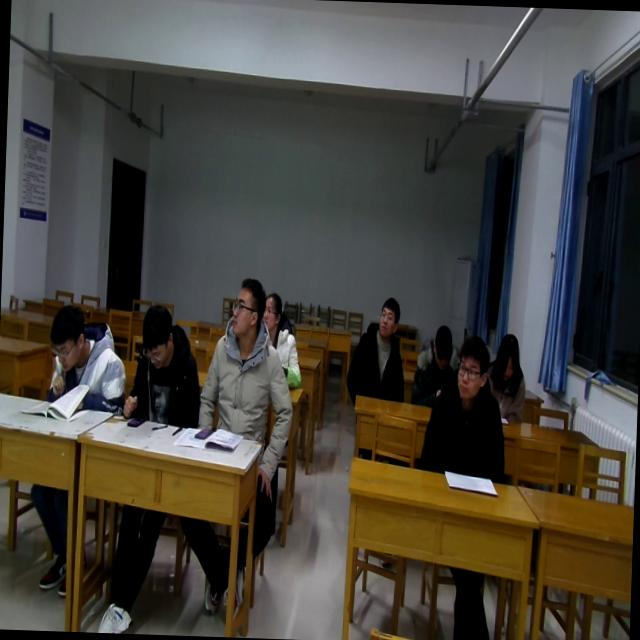bow: (42, 300, 128, 414)
down: (45, 300, 90, 374), (136, 302, 176, 373), (492, 324, 524, 384), (426, 322, 456, 374)
lookup: (452, 330, 488, 404)
sit: (194, 274, 300, 445), (416, 331, 512, 484), (119, 300, 204, 429), (343, 294, 409, 408), (258, 288, 305, 392), (483, 325, 529, 429), (410, 324, 464, 406)
